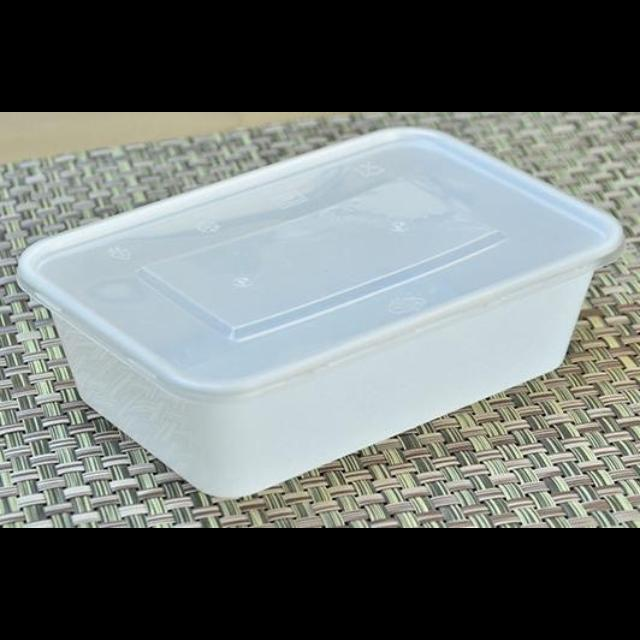plastic_box: (9, 122, 626, 498)
